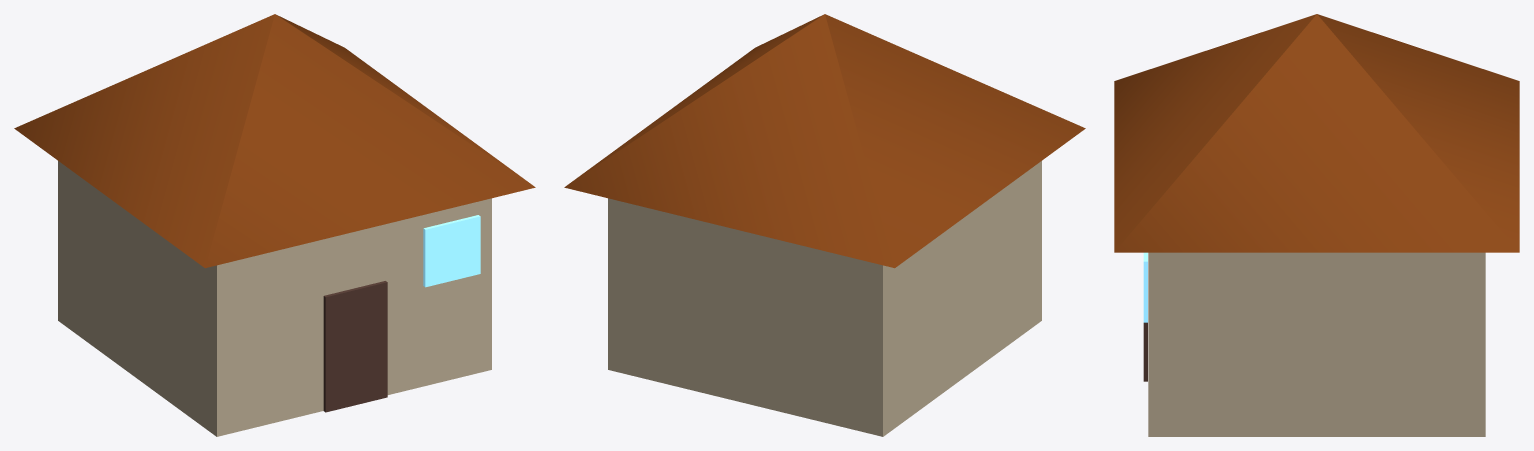
Rendered from wooden-house.glb.
3 views of the same model, side by side, from view 1: azimuth 30°, elevation 25°; view 2: azimuth 150°, elevation 25°; view 3: azimuth 270°, elevation 25° (orthographic). The views are drawn at different scales.
Visible parts, largest first — view 1: poor-house; view 2: poor-house; view 3: poor-house.
Boxes of the visible parts, bbox=[...] form: poor-house: bbox=[14, 14, 535, 436]; poor-house: bbox=[564, 14, 1085, 436]; poor-house: bbox=[1114, 14, 1519, 436].
Size of the model in its own units: 4.81 by 4.6 by 4.81.
